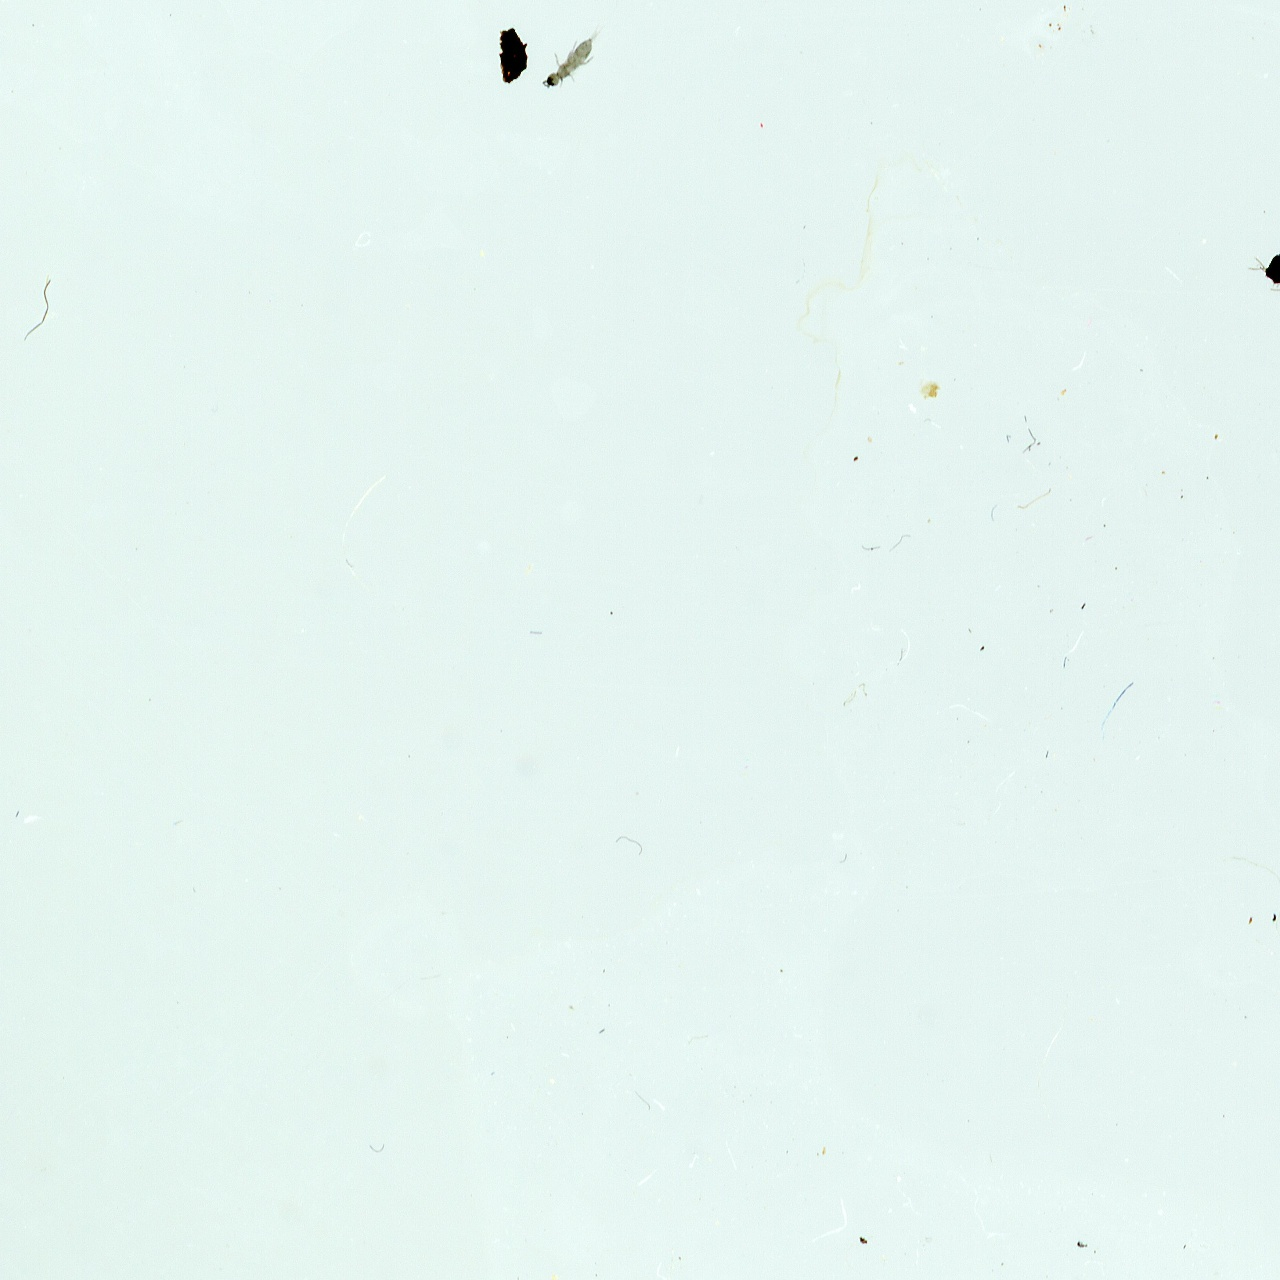arthropod: (531, 7, 619, 103)
